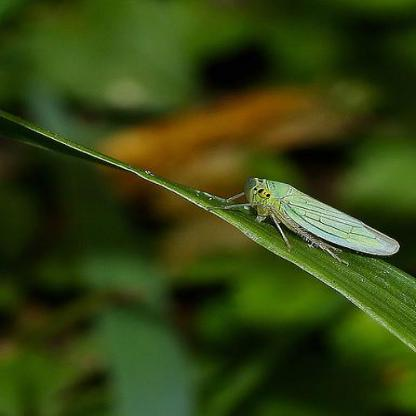Green-Leafhopper: (199, 177, 403, 270)
